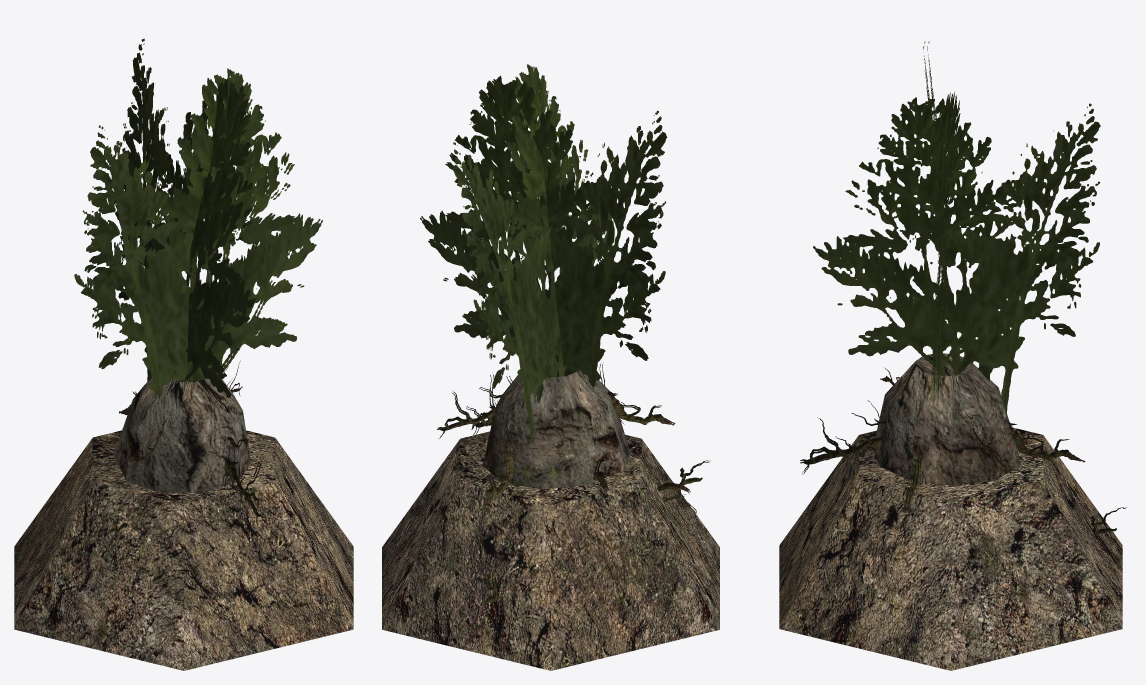
The model's file is GS_NATURE_BEET_02_GALI.glb.
3 views of the same model, side by side, from view 1: azimuth 30°, elevation 25°; view 2: azimuth 150°, elevation 25°; view 3: azimuth 270°, elevation 25° (orthographic).
Parts seen in each view (by area): view 1: Mesh; view 2: Mesh; view 3: Mesh.
Boxes of the visible parts, x1,y1,x2,y2 form: Mesh: (14,38,353,670); Mesh: (382,64,719,670); Mesh: (779,41,1126,670).
Size of the model in its own units: 0.6463 by 0.9196 by 0.6244.
Materials: 4 (4 with a texture image).
